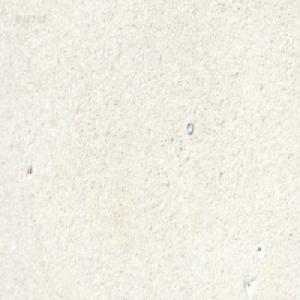Washer: (185, 119, 193, 134)
